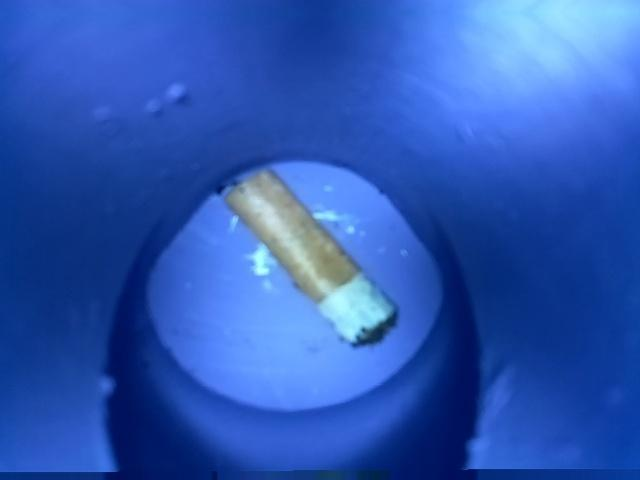megot: (199, 158, 408, 354)
